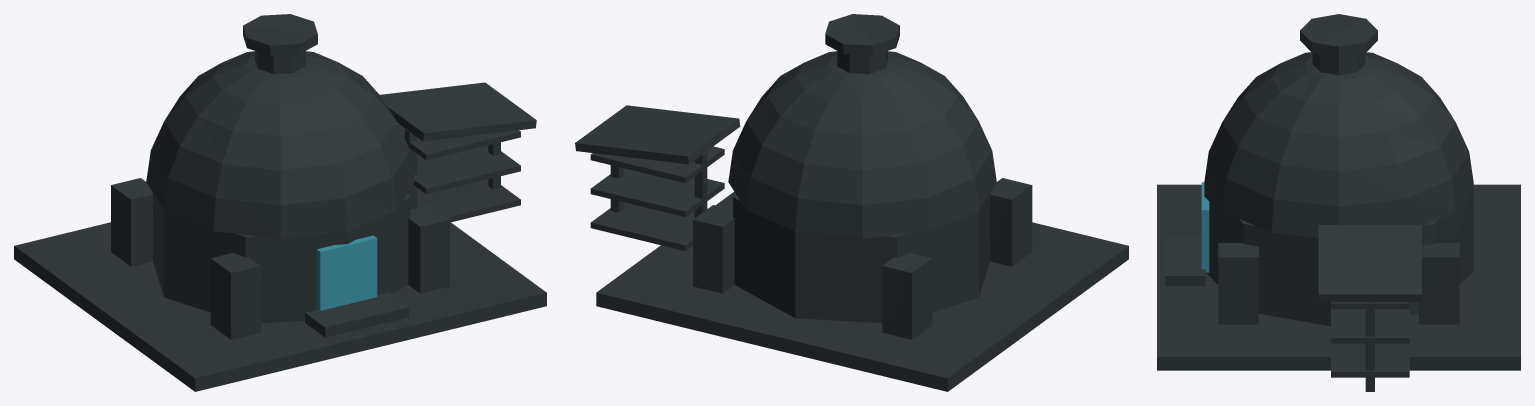
The model's file is Charcoal-Kiln.glb.
3 views of the same model, side by side, from view 1: azimuth 30°, elevation 25°; view 2: azimuth 150°, elevation 25°; view 3: azimuth 270°, elevation 25° (orthographic).
Parts seen in each view (by area): view 1: charcoal-kiln-static-charcoal-kiln-dark-charcoal-masonry, charcoal-kiln-static-charcoal-kiln-pale-stone-apron-buttress, charcoal-kiln-static-charcoal-kiln-warm-timber-empty-rack, charcoal-kiln-static-charcoal-kiln-muted-teal-sealed-door, charcoal-kiln-static-charcoal-kiln-cream-chimney-cap; view 2: charcoal-kiln-static-charcoal-kiln-dark-charcoal-masonry, charcoal-kiln-static-charcoal-kiln-pale-stone-apron-buttress, charcoal-kiln-static-charcoal-kiln-warm-timber-empty-rack, charcoal-kiln-static-charcoal-kiln-cream-chimney-cap; view 3: charcoal-kiln-static-charcoal-kiln-dark-charcoal-masonry, charcoal-kiln-static-charcoal-kiln-pale-stone-apron-buttress, charcoal-kiln-static-charcoal-kiln-warm-timber-empty-rack, charcoal-kiln-static-charcoal-kiln-cream-chimney-cap, charcoal-kiln-static-charcoal-kiln-muted-teal-sealed-door.
Part boxes in pixels (x1,y1,x2,y2): charcoal-kiln-static-charcoal-kiln-dark-charcoal-masonry: (146,51,414,323); charcoal-kiln-static-charcoal-kiln-pale-stone-apron-buttress: (14,178,546,391); charcoal-kiln-static-charcoal-kiln-warm-timber-empty-rack: (380,82,536,222); charcoal-kiln-static-charcoal-kiln-muted-teal-sealed-door: (316,235,377,310); charcoal-kiln-static-charcoal-kiln-cream-chimney-cap: (243,14,317,55); charcoal-kiln-static-charcoal-kiln-dark-charcoal-masonry: (728,51,996,323); charcoal-kiln-static-charcoal-kiln-pale-stone-apron-buttress: (596,178,1128,391); charcoal-kiln-static-charcoal-kiln-warm-timber-empty-rack: (575,105,740,251); charcoal-kiln-static-charcoal-kiln-cream-chimney-cap: (825,14,899,55); charcoal-kiln-static-charcoal-kiln-dark-charcoal-masonry: (1204,52,1473,326); charcoal-kiln-static-charcoal-kiln-pale-stone-apron-buttress: (1157,184,1520,370); charcoal-kiln-static-charcoal-kiln-warm-timber-empty-rack: (1318,225,1421,391); charcoal-kiln-static-charcoal-kiln-cream-chimney-cap: (1300,14,1377,56); charcoal-kiln-static-charcoal-kiln-muted-teal-sealed-door: (1201,182,1209,272).
Bounding box in the file's own units: 7.8 × 4.47 × 5.8.
